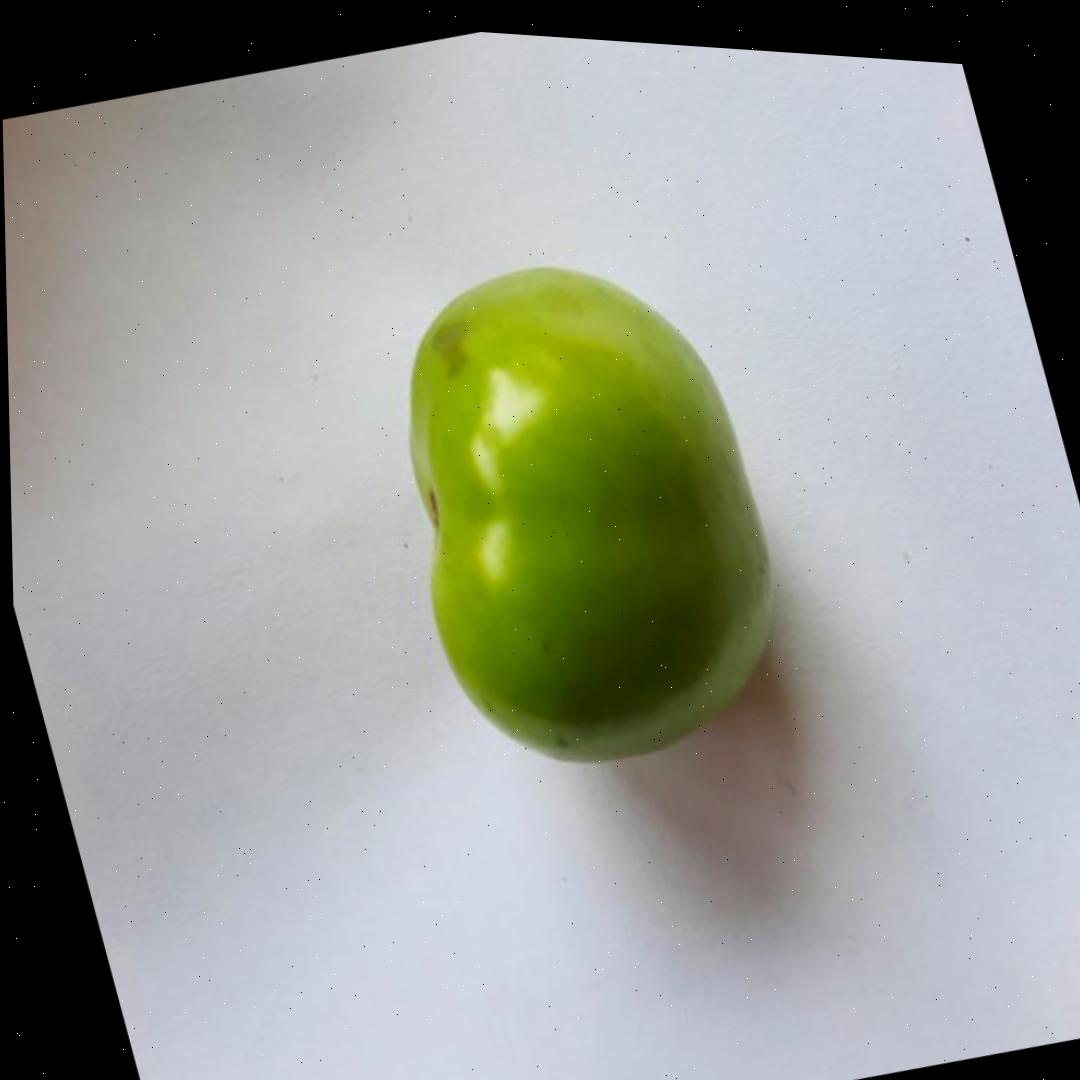mentah: (345, 212, 819, 810)
